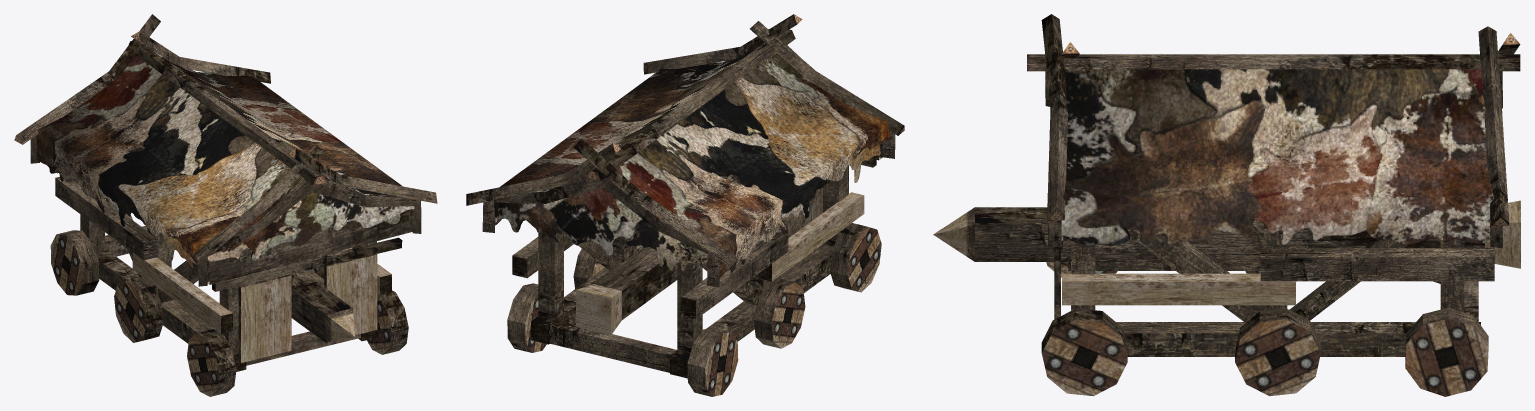
File: celt_siege_ram.dae
3 views of the same model, side by side, from view 1: azimuth 30°, elevation 25°; view 2: azimuth 150°, elevation 25°; view 3: azimuth 270°, elevation 25° (orthographic). The views are drawn at different scales.
Parts seen in each view (by area): view 1: Cube_002; view 2: Cube_002; view 3: Cube_002.
Boxes of the visible parts, box(x1,y1,x2,y2) form: Cube_002: box(14, 14, 437, 396); Cube_002: box(466, 14, 904, 396); Cube_002: box(933, 14, 1520, 396).
Bounding box in the file's own units: 7.26 × 10.88 × 6.39.
